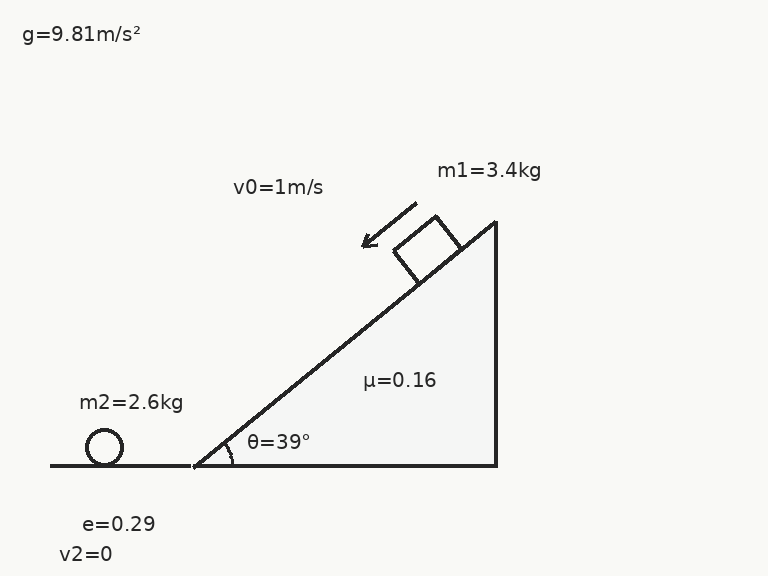ball: (83, 426, 125, 468)
block: (391, 214, 464, 285)
ramp: (190, 219, 497, 468)
